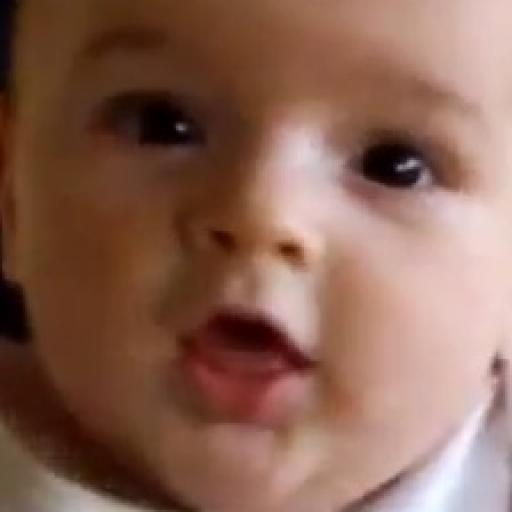Autism: (27, 4, 512, 506)
